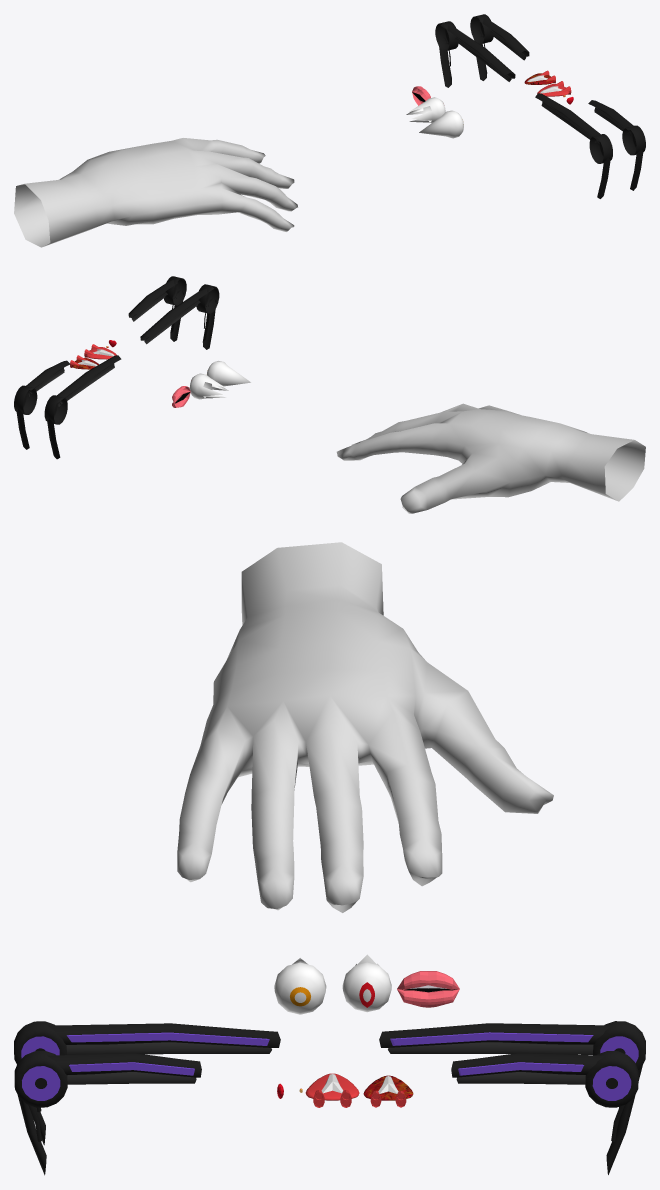
Rendered from modelos prontos etapa 4.fbx.
3 views of the same model, one above another, from view 1: azimuth 30°, elevation 25°; view 2: azimuth 150°, elevation 25°; view 3: azimuth 270°, elevation 25° (orthographic). The views are drawn at different scales.
Parts seen in each view (by area): view 1: Boss_Hand, Capotraste_Longo_Direito, Capotraste_Longo_Esquerdo, Capotraste_Esquerdo, Capotraste_Direito, Olho_Flutuante, Olho_Pernas, Nave_Palheta_Definitiva; view 2: Boss_Hand, Capotraste_Longo_Esquerdo, Capotraste_Longo_Direito, Capotraste_Direito, Capotraste_Esquerdo, Olho_Pernas, Olho_Flutuante; view 3: Boss_Hand, Capotraste_Longo_Esquerdo, Capotraste_Longo_Direito, Capotraste_Direito, Capotraste_Esquerdo, Olho_Flutuante, Olho_Pernas, Boca, Nave_Palheta_Definitiva, Nave_Palheta_Definitiva.001.
Boxes of the visible parts, left/top/right/bottom form: Boss_Hand: left=14, top=138, right=297, bottom=247; Capotraste_Longo_Direito: left=435, top=21, right=515, bottom=87; Capotraste_Longo_Esquerdo: left=535, top=93, right=612, bottom=198; Capotraste_Esquerdo: left=588, top=100, right=645, bottom=190; Capotraste_Direito: left=470, top=14, right=529, bottom=80; Olho_Flutuante: left=419, top=110, right=463, bottom=138; Olho_Pernas: left=406, top=97, right=445, bottom=122; Nave_Palheta_Definitiva: left=537, top=81, right=571, bottom=96; Boss_Hand: left=336, top=403, right=645, bottom=513; Capotraste_Longo_Esquerdo: left=140, top=284, right=219, bottom=349; Capotraste_Longo_Direito: left=44, top=355, right=121, bottom=459; Capotraste_Direito: left=14, top=360, right=70, bottom=449; Capotraste_Esquerdo: left=128, top=276, right=186, bottom=341; Olho_Pernas: left=189, top=373, right=228, bottom=399; Olho_Flutuante: left=207, top=361, right=250, bottom=386; Boss_Hand: left=177, top=542, right=553, bottom=912; Capotraste_Longo_Esquerdo: left=14, top=1021, right=280, bottom=1145; Capotraste_Longo_Direito: left=379, top=1021, right=645, bottom=1128; Capotraste_Direito: left=451, top=1051, right=638, bottom=1174; Capotraste_Esquerdo: left=14, top=1051, right=201, bottom=1175; Olho_Flutuante: left=274, top=958, right=326, bottom=1014; Olho_Pernas: left=342, top=954, right=391, bottom=1012; Boca: left=397, top=971, right=459, bottom=1007; Nave_Palheta_Definitiva: left=305, top=1073, right=359, bottom=1107; Nave_Palheta_Definitiva.001: left=363, top=1075, right=413, bottom=1107.
Bounding box in the file's own units: 16516 × 2336 × 8876.
